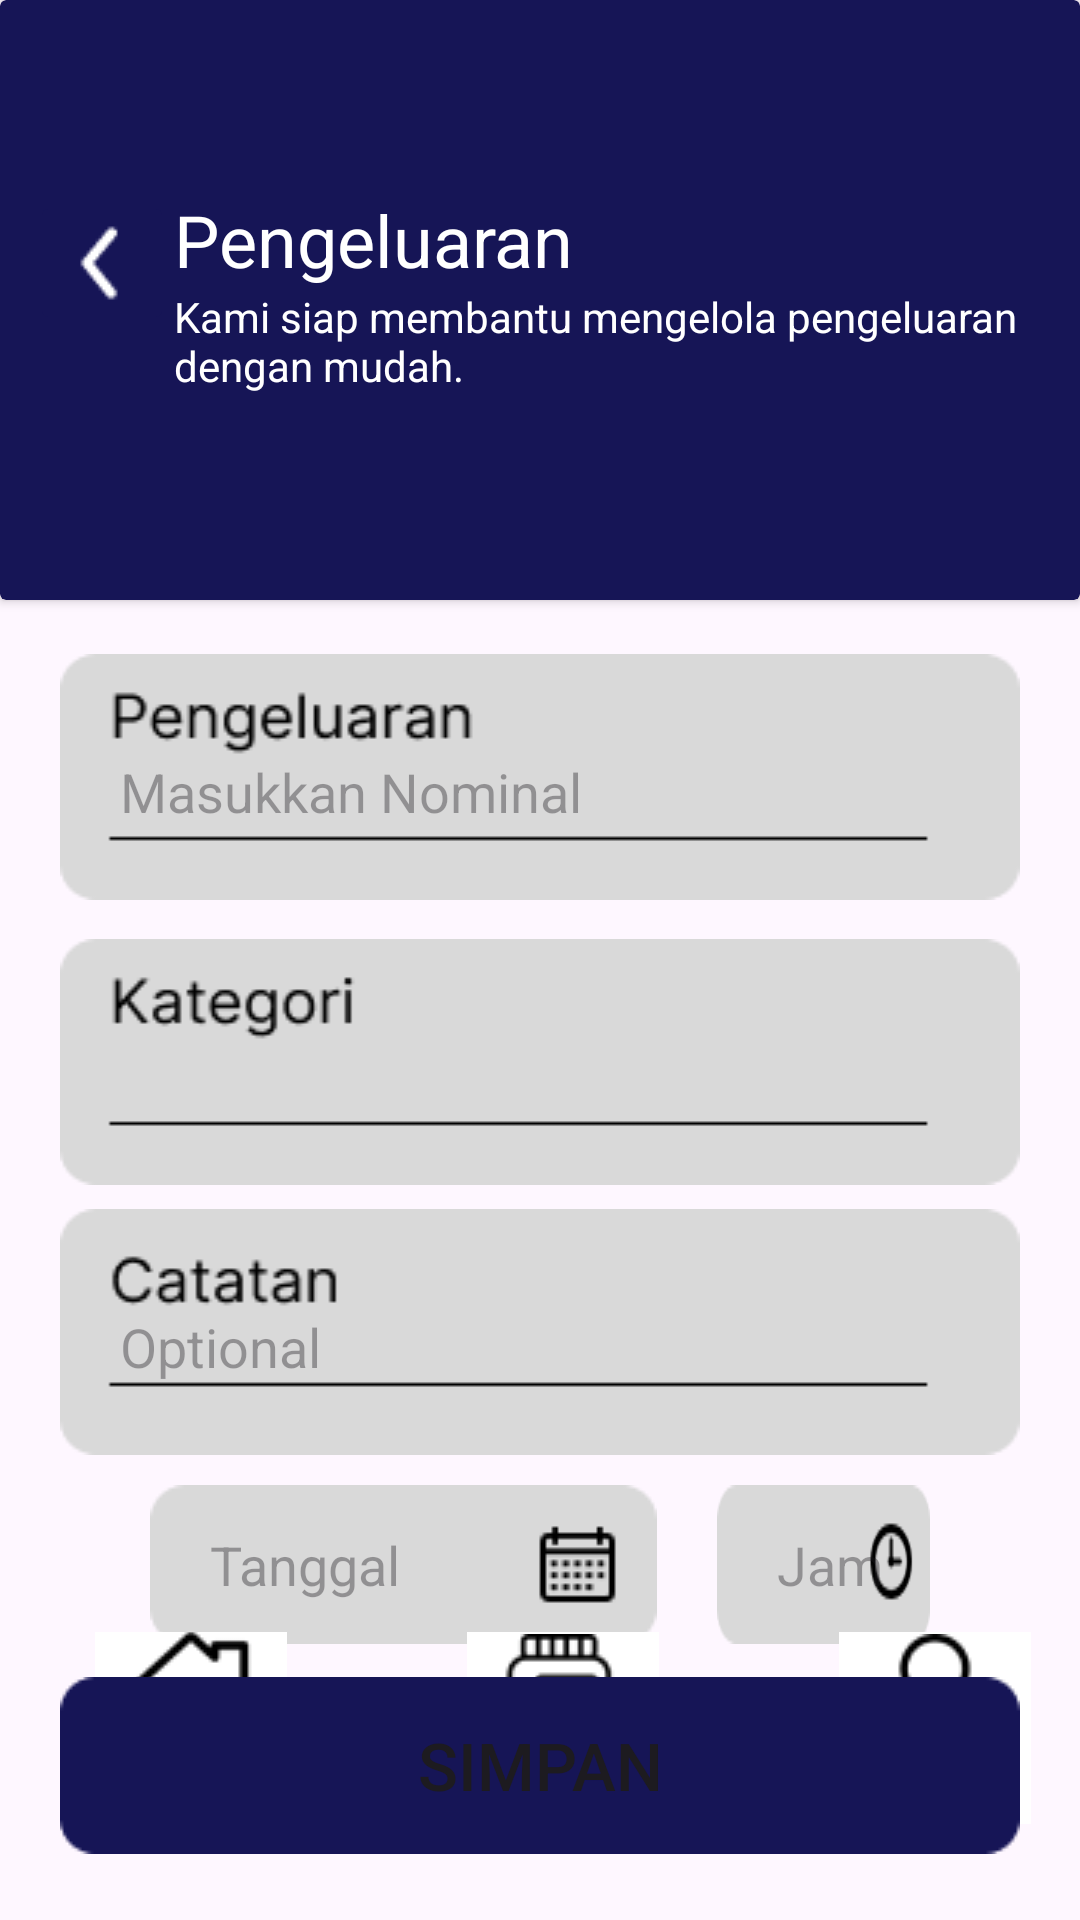

Where icons sit on this 1080w x 1920h app screen, as box(x1, y1, x2, y2):
back: box(80, 226, 118, 300)
